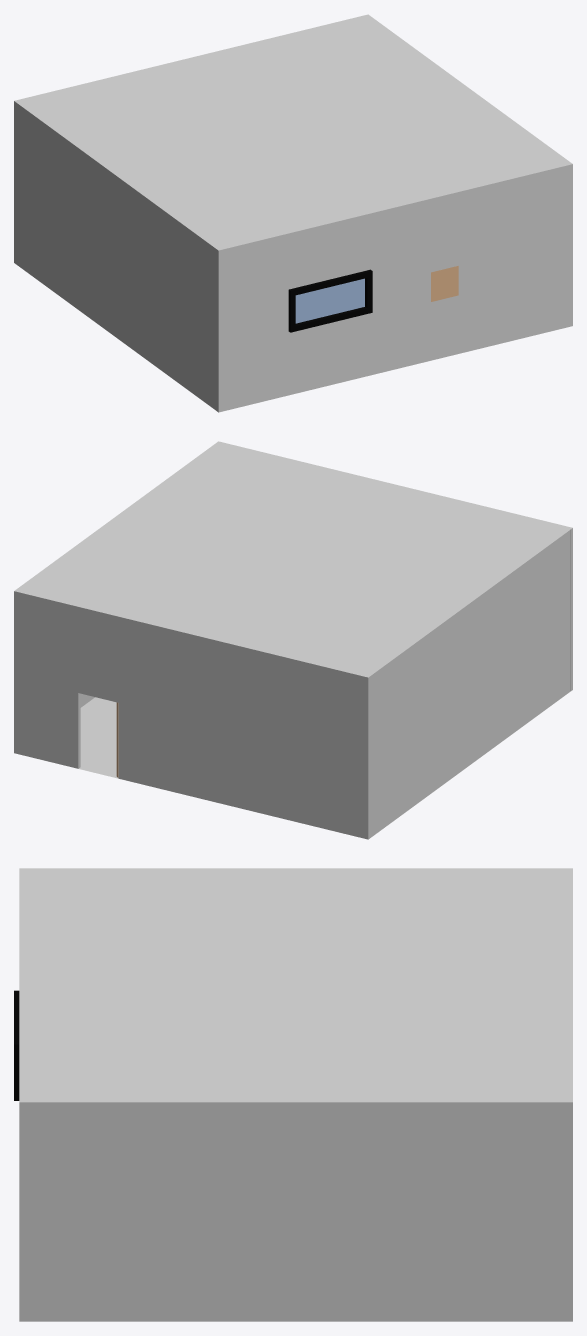
3 views of the same model, one above another, from view 1: azimuth 30°, elevation 25°; view 2: azimuth 150°, elevation 25°; view 3: azimuth 270°, elevation 25° (orthographic). The views are drawn at different scales.
Parts seen in each view (by area): view 1: Cube.001, Cube.014, Cube.013, Cube.015; view 2: Cube.001, Plane; view 3: Cube.001, Cube.013.
Part boxes in pixels (box(x1,y1,x2,y2)): Cube.001: box(14, 14, 572, 412); Cube.014: box(295, 278, 364, 323); Cube.013: box(288, 269, 372, 332); Cube.015: box(431, 266, 458, 301); Cube.001: box(14, 441, 572, 839); Plane: box(78, 696, 563, 778); Cube.001: box(19, 868, 572, 1321); Cube.013: box(14, 990, 19, 1100).
Size of the model in its own units: 1781 by 778 by 1798.
